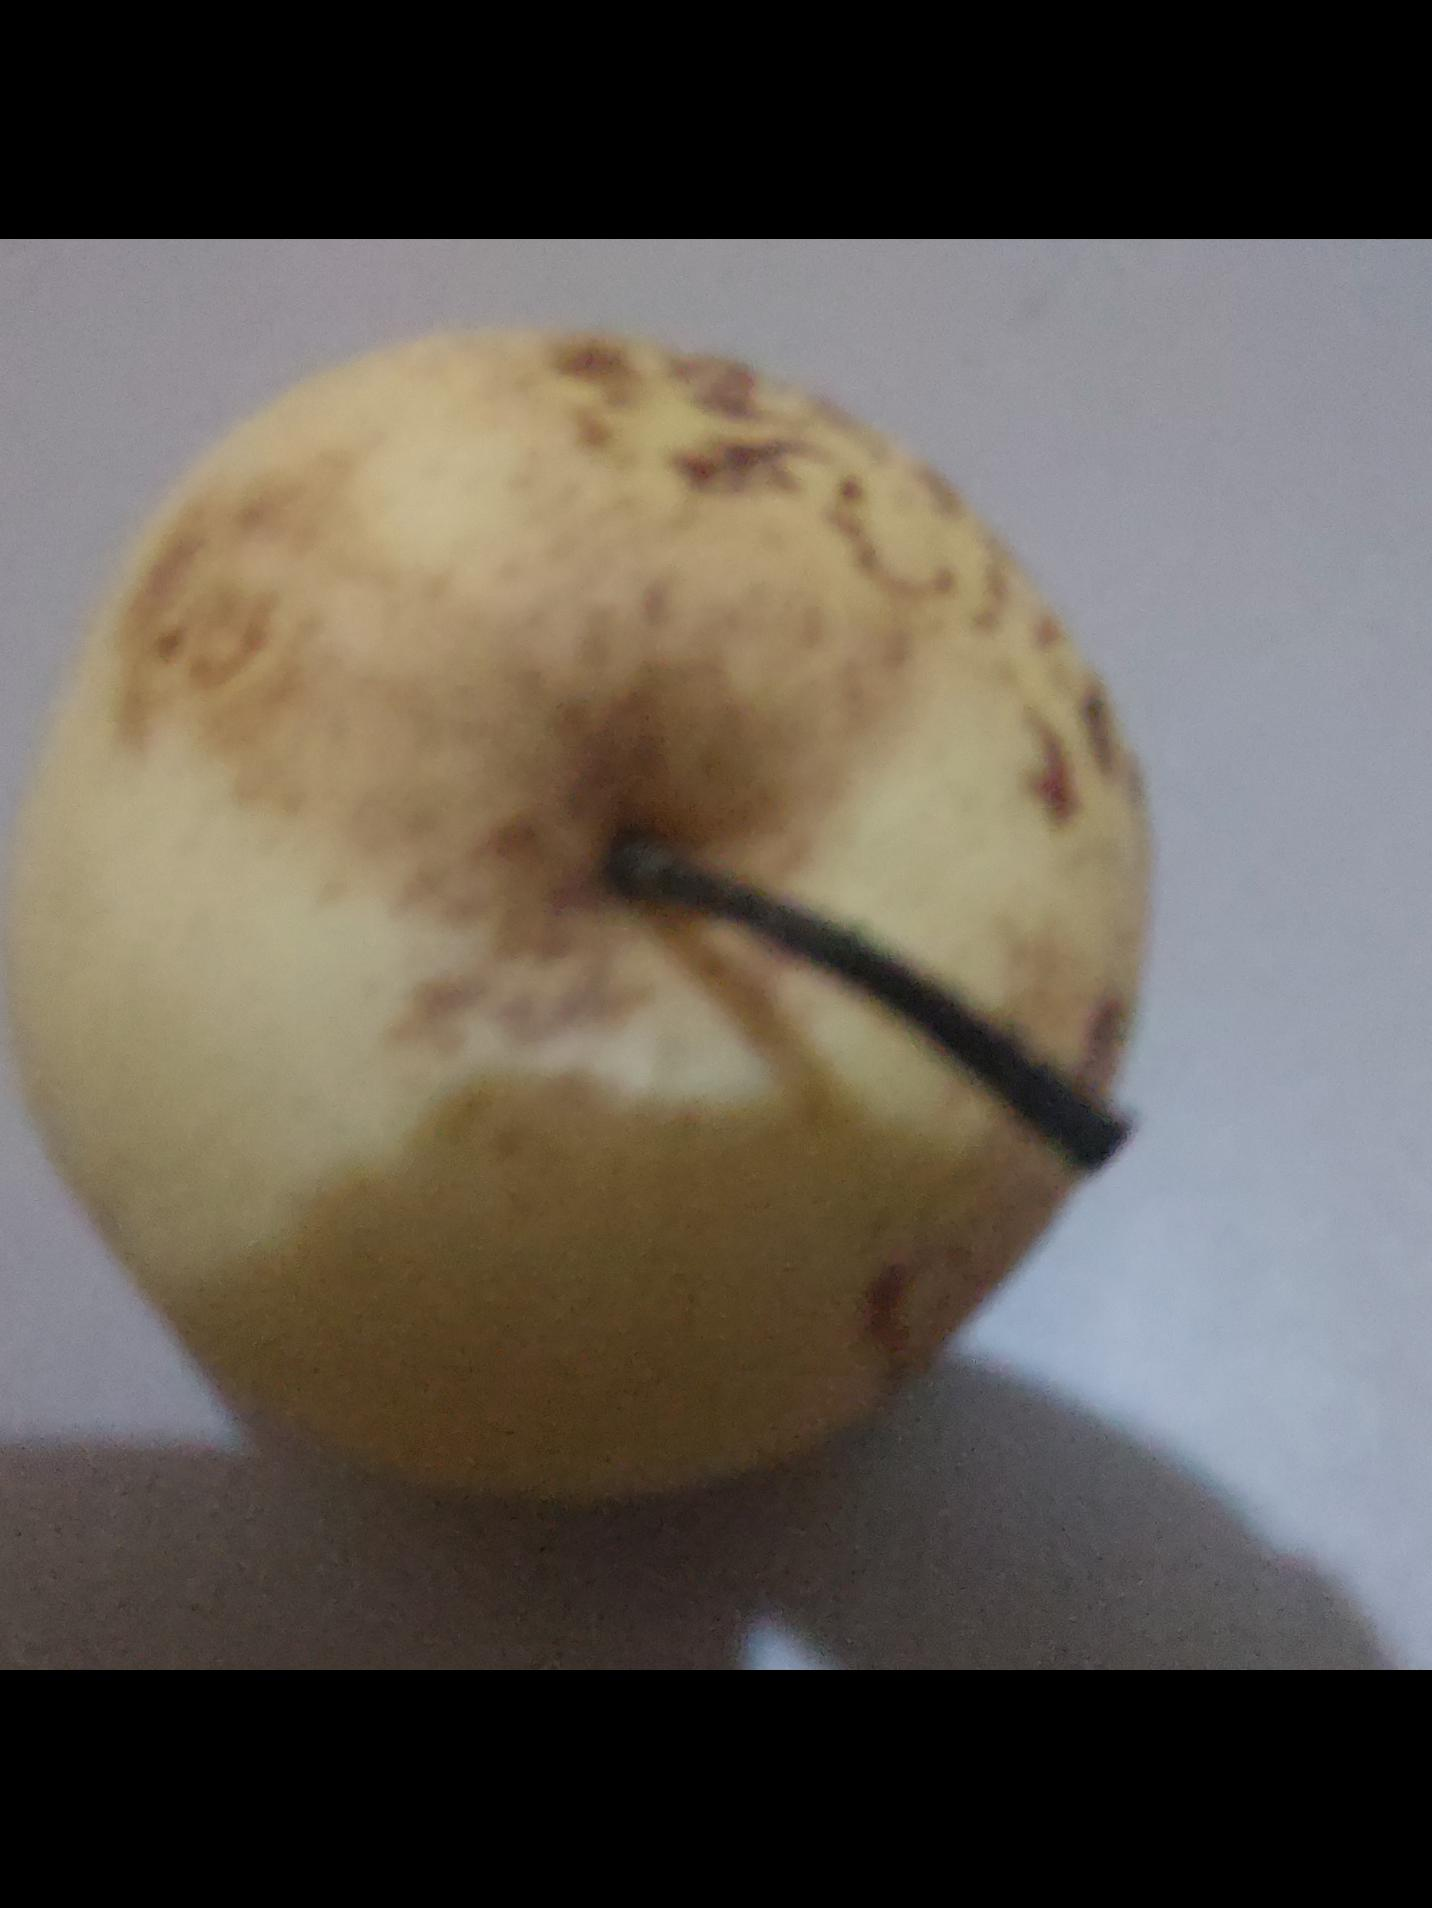Bad Pear: (0, 313, 1202, 1507)
